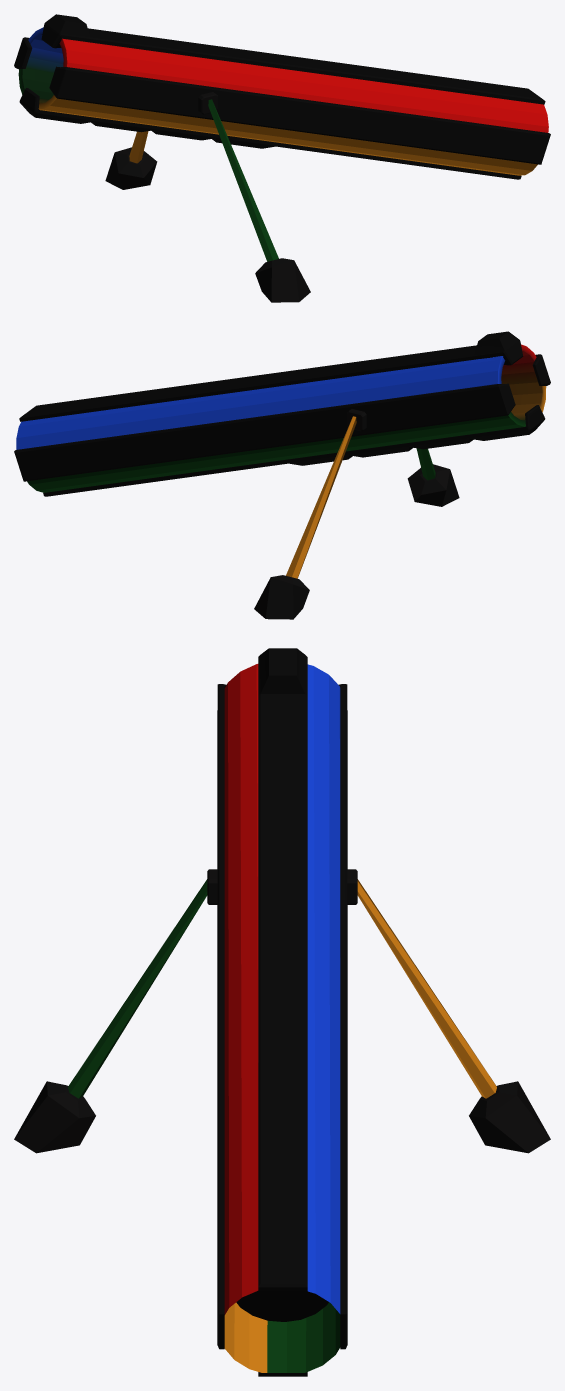
File: ENV_Object_TennisShooter_01.fbx
3 renders of one model, top to bottom at view 1: azimuth 30°, elevation 25°; view 2: azimuth 150°, elevation 25°; view 3: azimuth 270°, elevation 25°, orthographic. The views are drawn at different scales.
Visible parts, largest first — view 1: ENV_Object_TennisShooter_01_Shooter, ENV_Object_TennisShooter_01_ArmLeft, ENV_Object_TennisShooter_01_ArmRight; view 2: ENV_Object_TennisShooter_01_Shooter, ENV_Object_TennisShooter_01_ArmRight, ENV_Object_TennisShooter_01_ArmLeft; view 3: ENV_Object_TennisShooter_01_Shooter, ENV_Object_TennisShooter_01_ArmRight, ENV_Object_TennisShooter_01_ArmLeft.
Boxes of the visible parts, x1=… form: ENV_Object_TennisShooter_01_Shooter: x1=14, y1=14, x2=550, y2=179; ENV_Object_TennisShooter_01_ArmLeft: x1=208, y1=99, x2=310, y2=302; ENV_Object_TennisShooter_01_ArmRight: x1=105, y1=131, x2=157, y2=189; ENV_Object_TennisShooter_01_Shooter: x1=14, y1=331, x2=550, y2=496; ENV_Object_TennisShooter_01_ArmRight: x1=254, y1=416, x2=356, y2=619; ENV_Object_TennisShooter_01_ArmLeft: x1=407, y1=448, x2=459, y2=506; ENV_Object_TennisShooter_01_Shooter: x1=207, y1=648, x2=357, y2=1376; ENV_Object_TennisShooter_01_ArmRight: x1=357, y1=879, x2=550, y2=1153; ENV_Object_TennisShooter_01_ArmLeft: x1=14, y1=879, x2=207, y2=1153.
Size of the model in its own units: 242 by 121 by 147.
